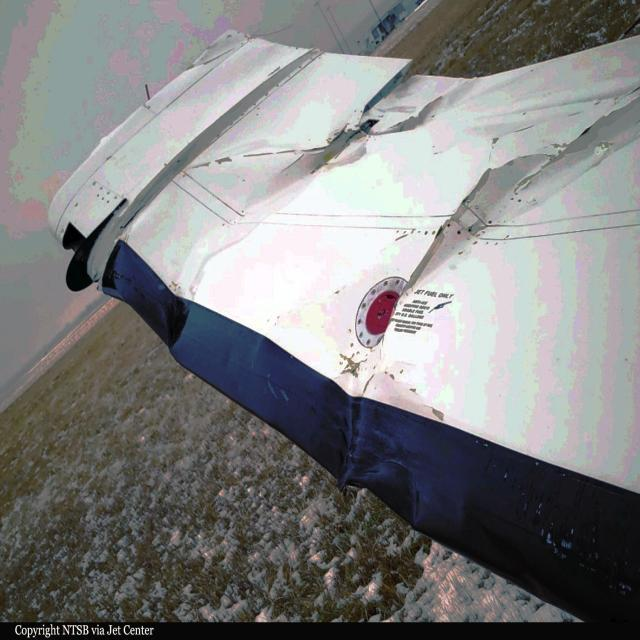crack: (303, 60, 448, 177), (400, 160, 500, 300), (518, 104, 640, 198)
